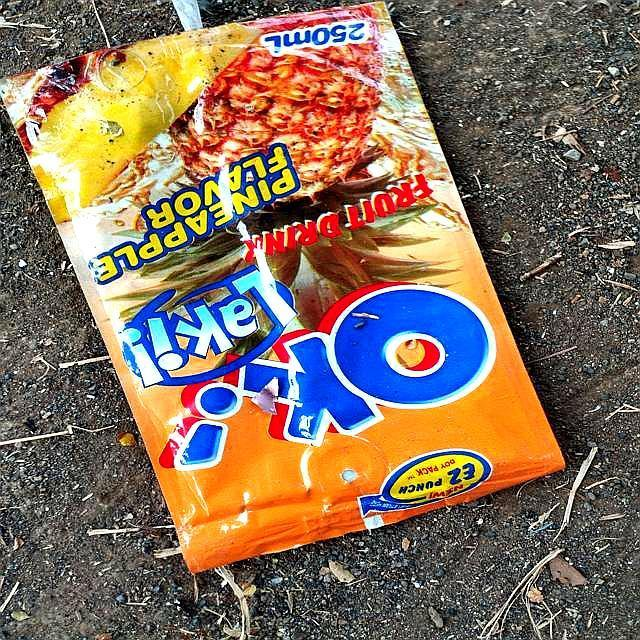Non-biodegradable: (1, 1, 575, 581)
